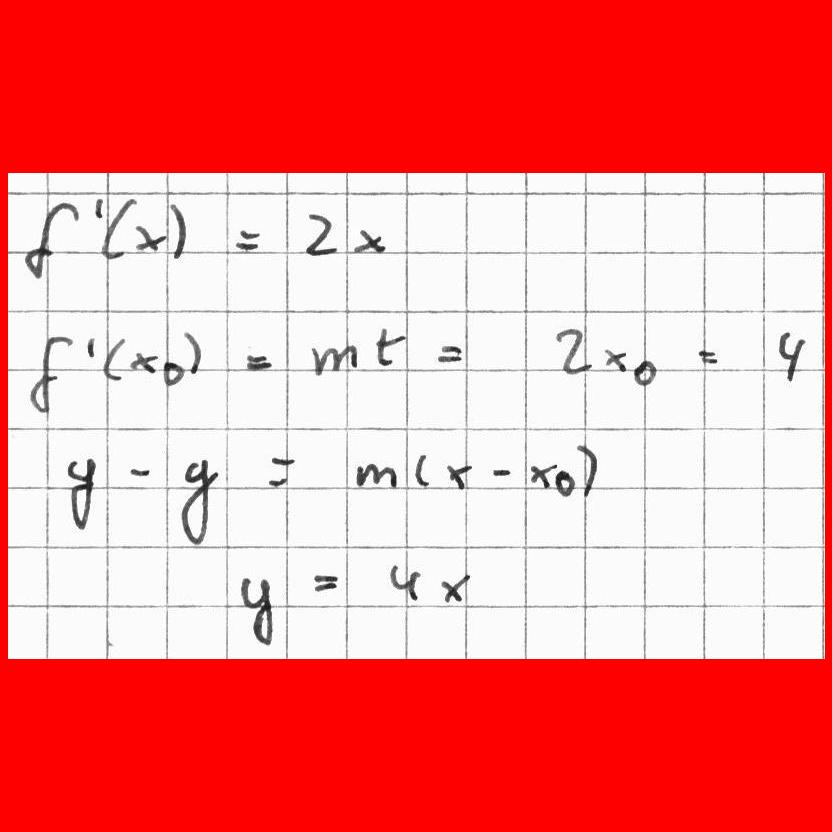Char: (23, 198, 81, 282), (27, 333, 75, 414), (180, 457, 218, 547), (64, 453, 99, 535), (96, 196, 137, 261), (240, 574, 276, 647), (554, 326, 593, 377), (774, 327, 806, 389), (308, 340, 361, 376), (388, 561, 427, 606), (304, 210, 339, 258), (374, 325, 410, 365), (574, 440, 598, 498), (354, 462, 400, 491), (261, 451, 297, 488), (168, 199, 189, 261), (101, 335, 126, 383), (133, 220, 168, 254), (441, 571, 474, 605), (231, 224, 264, 256), (182, 329, 204, 377), (444, 460, 475, 492), (351, 227, 386, 255), (529, 459, 558, 492), (411, 449, 433, 490), (631, 358, 660, 388), (241, 349, 274, 372), (310, 569, 339, 595), (130, 348, 158, 374), (602, 344, 626, 373), (160, 360, 185, 387), (435, 343, 465, 364), (126, 461, 154, 482), (695, 345, 721, 367), (555, 468, 575, 496), (489, 464, 516, 480), (84, 334, 98, 361), (93, 194, 104, 220)
